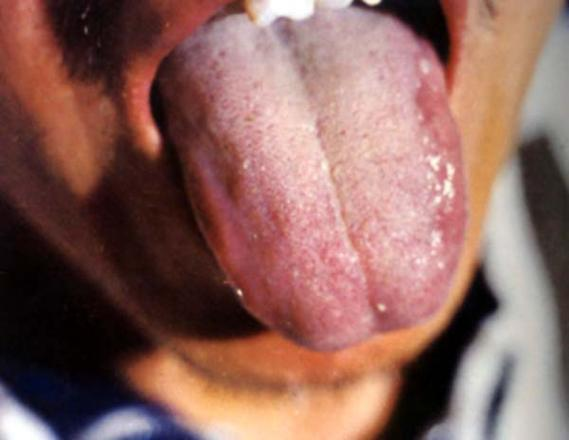baitaishe: (160, 5, 465, 352)
hongshe: (160, 5, 465, 352)
